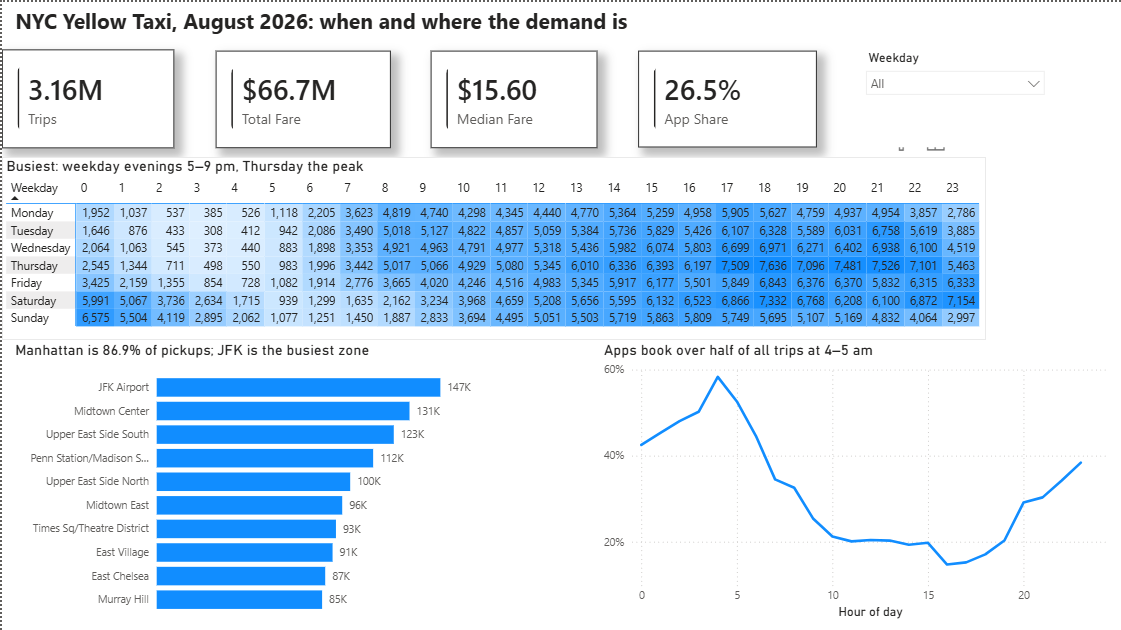

What the dashboard file says about the page in this screenshot:
{"tool":"powerbi","page":{"name":"Demand: When & Where","canvas":[1280,720],"ordinal":0},"visuals":[{"type":"textbox","box":[9.6,0,746.5,49.4],"z":0},{"type":"cardVisual","fields":{"Data":["Trips.Trips"]},"box":[0,54.3,197.1,112.9],"z":1000},{"type":"cardVisual","fields":{"Data":["Trips.Total Fare"]},"box":[243.6,55.7,200,111.4],"z":2000},{"type":"cardVisual","fields":{"Data":["Trips.Median Fare"]},"box":[490,55.2,190,111.4],"z":3000},{"type":"cardVisual","fields":{"Data":["Trips.App Share"]},"box":[726.4,56.2,204.3,110],"z":4000},{"type":"pivotTable","title":"Busiest: weekday evenings 5–9 pm, Thursday the peak","fields":{"Rows":["Date.Weekday"],"Columns":["Trips.pickup_hour"],"Values":["Trips.Avg Trips per Day"]},"box":[0,177.1,1124.3,210],"z":5000},{"type":"clusteredBarChart","title":"Manhattan is 86.9% of pickups; JFK is the busiest zone","fields":{"Category":["Zones.Zone"],"Y":["Trips.Trips"]},"box":[10,387.1,614.3,322.9],"z":6000},{"type":"lineChart","title":"Apps book over half of all trips at 4–5 am","fields":{"Category":["Trips.pickup_hour"],"Y":["Trips.App Share"]},"box":[682.9,387.1,587.1,322.9],"z":7000},{"type":"slicer","fields":{"Values":["Date.Weekday"]},"box":[977.1,50,224.3,115.7],"z":8000}]}

Visuals, with their boxes in screenshot pixels (x1, y1, x2, y2), scaled from the page's 1280x720 canvas onto the 1121x630 screenshot:
textbox: bbox=(8, 0, 662, 43)
cardVisual - Trips.Trips: bbox=(0, 48, 173, 146)
cardVisual - Trips.Total Fare: bbox=(213, 49, 388, 146)
cardVisual - Trips.Median Fare: bbox=(429, 48, 596, 146)
cardVisual - Trips.App Share: bbox=(636, 49, 815, 145)
"Busiest: weekday evenings 5–9 pm, Thursday the peak" pivotTable: bbox=(0, 155, 985, 339)
"Manhattan is 86.9% of pickups; JFK is the busiest zone" clusteredBarChart: bbox=(9, 339, 547, 621)
"Apps book over half of all trips at 4–5 am" lineChart: bbox=(598, 339, 1112, 621)
slicer - Date.Weekday: bbox=(856, 44, 1052, 145)
